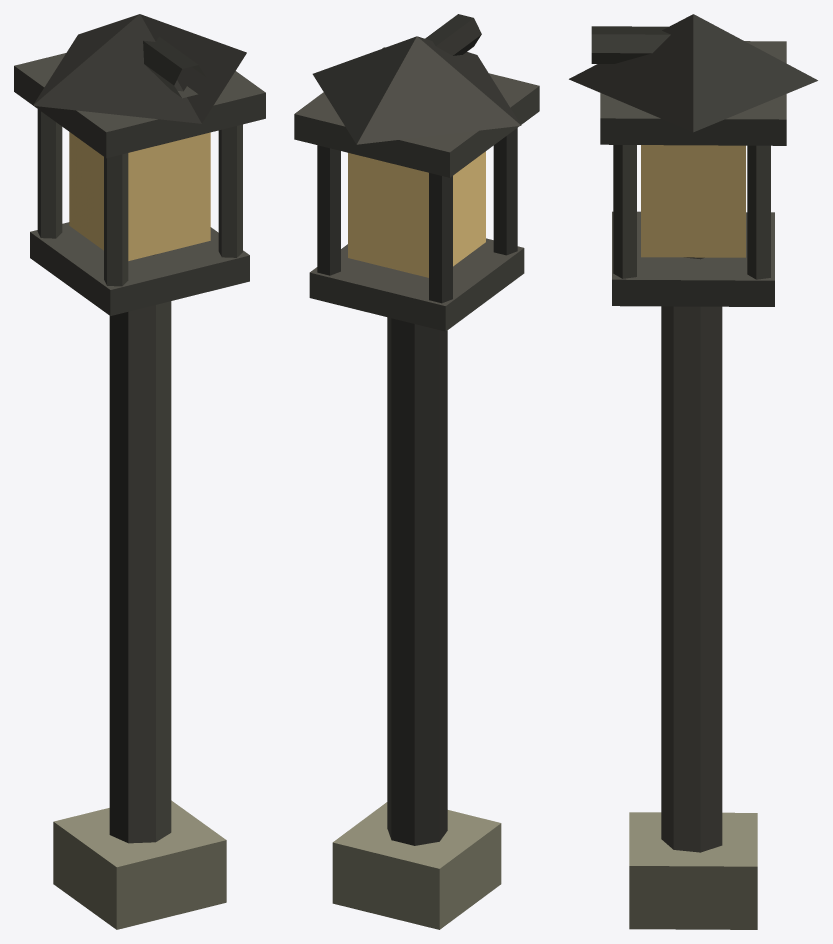
The picture shows the model from 3 angles, left to right: view 1: azimuth 30°, elevation 25°; view 2: azimuth 150°, elevation 25°; view 3: azimuth 270°, elevation 25°; orthographic projection. The views are drawn at different scales.
Visible parts, largest first — view 1: ac95d642d96853526ea1a8ed3cbf85ffbc0a559c5ae284f415ae1aacf74c; view 2: ac95d642d96853526ea1a8ed3cbf85ffbc0a559c5ae284f415ae1aacf74c; view 3: ac95d642d96853526ea1a8ed3cbf85ffbc0a559c5ae284f415ae1aacf74c.
Boxes of the visible parts, <box> form: ac95d642d96853526ea1a8ed3cbf85ffbc0a559c5ae284f415ae1aacf74c: <box>14,14,265,929</box>; ac95d642d96853526ea1a8ed3cbf85ffbc0a559c5ae284f415ae1aacf74c: <box>294,14,539,929</box>; ac95d642d96853526ea1a8ed3cbf85ffbc0a559c5ae284f415ae1aacf74c: <box>569,14,817,929</box>.
Size of the model in its own units: 0.86 by 3.37 by 0.86.
2 materials, 1 textured.
